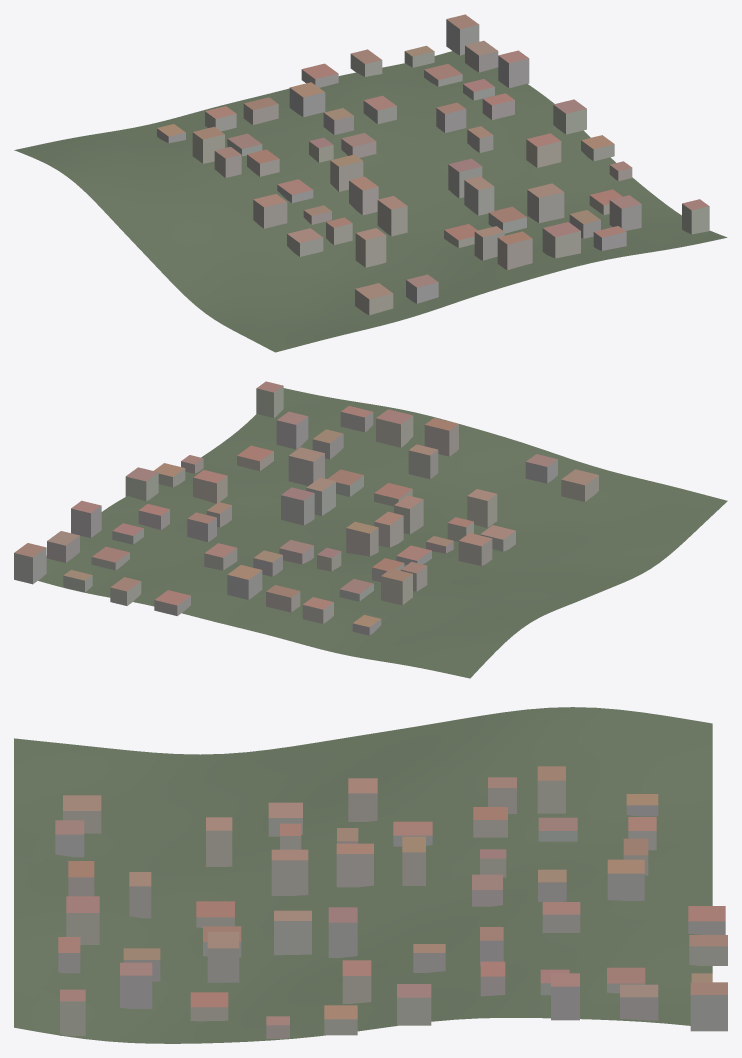
3 views of the same model, one above another, from view 1: azimuth 30°, elevation 25°; view 2: azimuth 150°, elevation 25°; view 3: azimuth 270°, elevation 25° (orthographic). The views are drawn at different scales.
Bounding box in the file's own units: 303 × 32.53 × 307.
